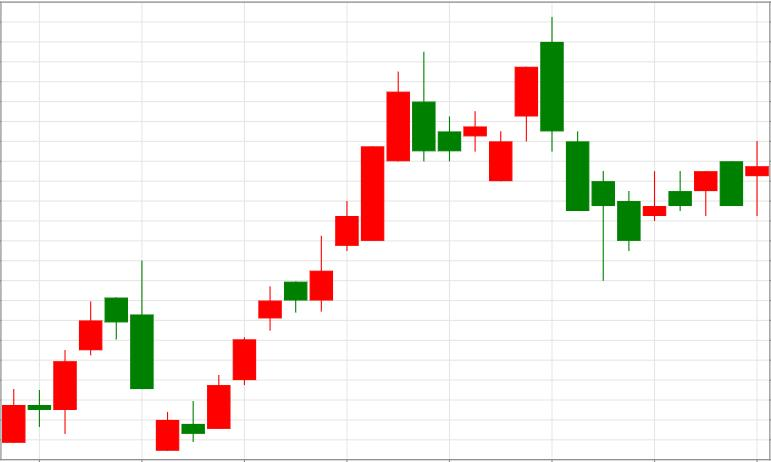bearish_engulfing_fall: (309, 52, 435, 313)
shooting_star_fall: (156, 236, 333, 451)
